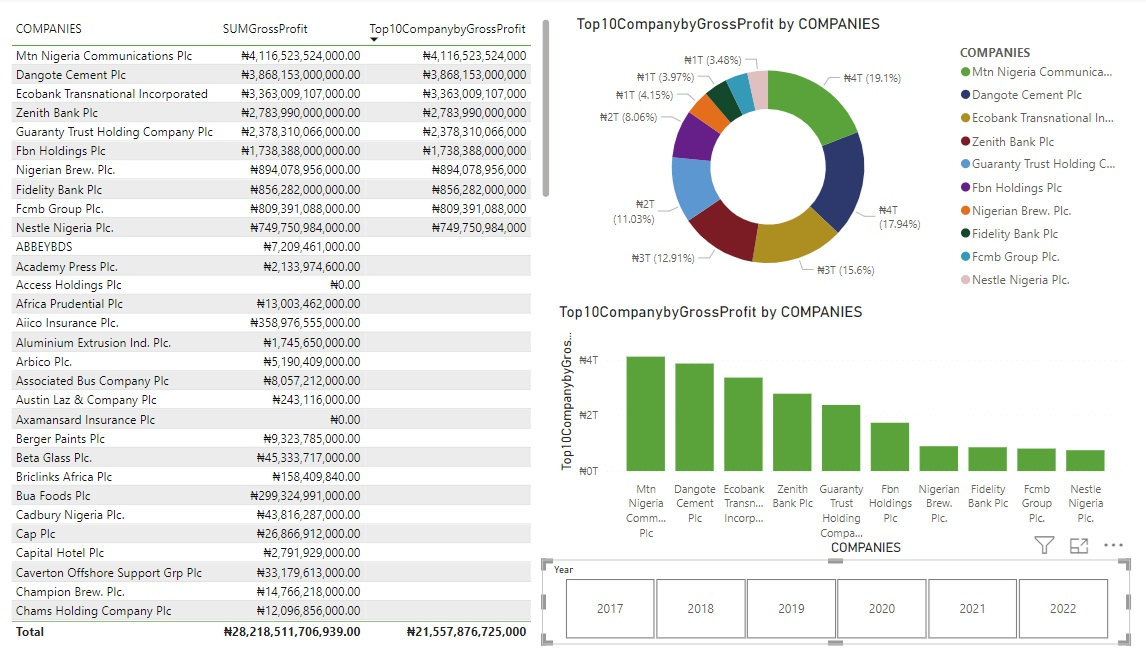

This screenshot's page, from the dashboard's own definition file:
{"tool":"powerbi","page":{"name":"GrossProfit","canvas":[1280,720],"ordinal":6},"visuals":[{"type":"tableEx","fields":{"Values":["Main_Sheet.COMPANIES","Sums.SUMGrossProfit","Sums.Top10CompanybyRevenue"]},"box":[9.6,19.2,601.9,691],"z":0},{"type":"donutChart","fields":{"Y":["Sums.Top10CompanybyRevenue"],"Category":["Main_Sheet.COMPANIES"]},"box":[630.7,19.2,611.5,315.3],"z":1000},{"type":"clusteredColumnChart","fields":{"Category":["Main_Sheet.COMPANIES"],"Y":["Sums.Top10CompanybyRevenue"]},"box":[611.5,334.5,630.7,282.4],"z":2000},{"type":"slicer","fields":{"Values":["Year.Year"]},"box":[597.8,617,644.4,93.2],"z":3000}]}

Visuals, with their boxes in screenshot pixels (x1, y1, x2, y2), scaled from the page's 1280x720 canvas onto the 1146x651 screenshot:
tableEx - Main_Sheet.COMPANIES x Sums.SUMGrossProfit: x1=9, y1=17, x2=547, y2=642
donutChart - Sums.Top10CompanybyRevenue x Main_Sheet.COMPANIES: x1=565, y1=17, x2=1112, y2=302
clusteredColumnChart - Main_Sheet.COMPANIES x Sums.Top10CompanybyRevenue: x1=547, y1=302, x2=1112, y2=558
slicer - Year.Year: x1=535, y1=558, x2=1112, y2=642
